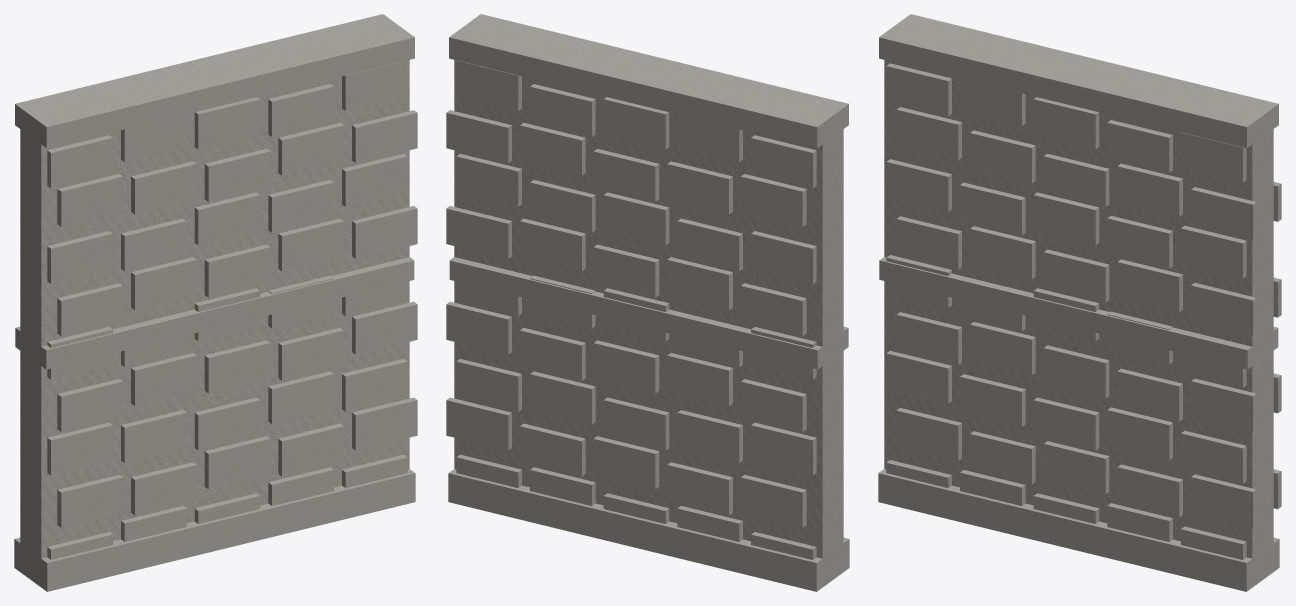
File: distillery-and-bonded-warehouse-wall-section-7002f532.glb
3 renders of one model, left to right at view 1: azimuth 30°, elevation 25°; view 2: azimuth 150°, elevation 25°; view 3: azimuth 330°, elevation 25°, orthographic.
Parts seen in each view (by area): view 1: wall-section-stone; view 2: wall-section-stone; view 3: wall-section-stone.
Boxes of the visible parts, x1=… form: wall-section-stone: x1=14, y1=14, x2=417, y2=591; wall-section-stone: x1=446, y1=14, x2=849, y2=591; wall-section-stone: x1=878, y1=14, x2=1281, y2=591.
Size of the model in its own units: 4.05 by 4.82 by 0.6202.
Materials: 1 (1 with a texture image).
